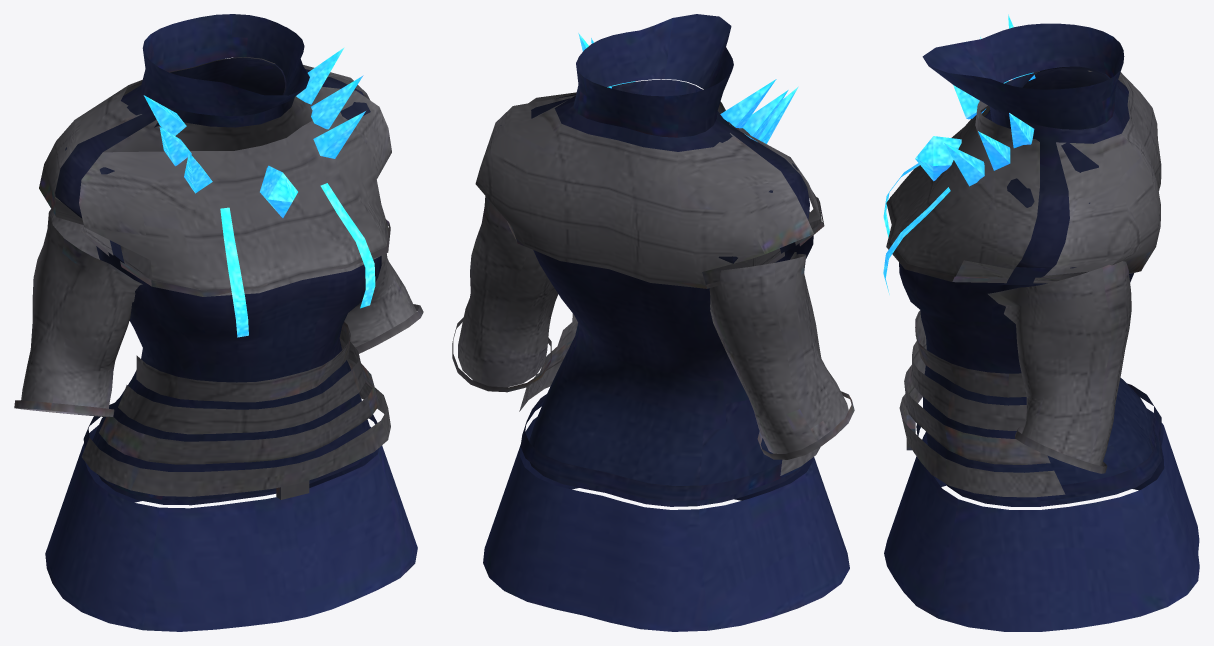
File: Peitoral_de_Cristal_nivel100.glb
3 renders of one model, left to right at view 1: azimuth 30°, elevation 25°; view 2: azimuth 150°, elevation 25°; view 3: azimuth 270°, elevation 25°, orthographic.
Visible parts, largest first — view 1: peitoral_de_cristal_nivel100; view 2: peitoral_de_cristal_nivel100; view 3: peitoral_de_cristal_nivel100.
Part boxes in pixels (x1,y1,x2,y2): peitoral_de_cristal_nivel100: (14, 14, 423, 631); peitoral_de_cristal_nivel100: (452, 14, 854, 631); peitoral_de_cristal_nivel100: (883, 14, 1199, 631).
Bounding box in the file's own units: 0.6157 × 0.7476 × 0.4309.
1 material, 1 textured.
